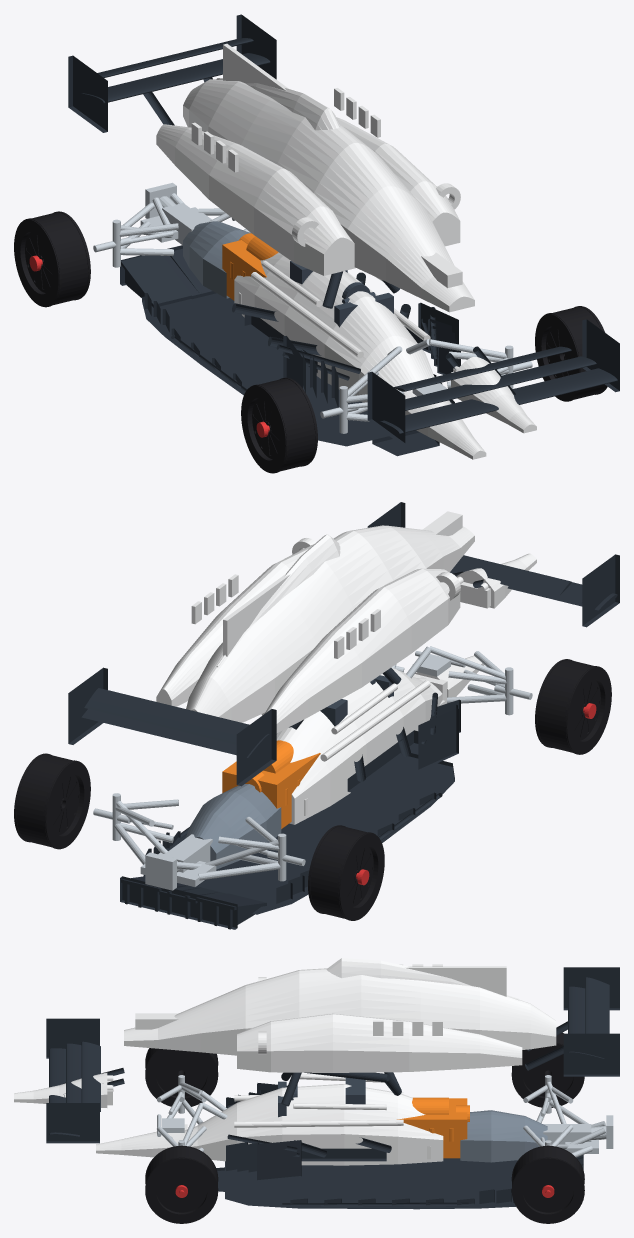
File: W11_2020_PRINTABLE_EXPLODED.glb
The picture shows the model from 3 angles, top to bottom: view 1: azimuth 30°, elevation 25°; view 2: azimuth 150°, elevation 25°; view 3: azimuth 270°, elevation 25°; orthographic projection. The views are drawn at different scales.
Parts seen in each view (by area): view 1: Reinforced W11 upper body, Rolling wheel (×3), 2020 flat stepped floor and diffuser, Carbon honeycomb survival cell, Static front wing, Static rear wing, Four-stack bargeboards, Rear swept pullrod suspension, Front pushrod suspension and DAS study, Rear transaxle and gearbox, Removable W11 nose, V6 turbo hybrid power unit study (+4 smaller); view 2: Reinforced W11 upper body, Rolling wheel (×3), 2020 flat stepped floor and diffuser, Carbon honeycomb survival cell, Static rear wing, Rear swept pullrod suspension, Static front wing, Rear transaxle and gearbox, Front pushrod suspension and DAS study, V6 turbo hybrid power unit study, Four-stack bargeboards, Rear impact structure (+4 smaller); view 3: Reinforced W11 upper body, Rolling wheel (×4), Carbon honeycomb survival cell, 2020 flat stepped floor and diffuser, Static front wing, Static rear wing, Rear transaxle and gearbox, Four-stack bargeboards, V6 turbo hybrid power unit study, Front pushrod suspension and DAS study, Rear swept pullrod suspension, Side impact structures (+5 smaller).
Part boxes in pixels (x1,y1,x2,y2): Reinforced W11 upper body: (156,43,474,312); Rolling wheel (×3): (14,211,607,473); 2020 flat stepped floor and diffuser: (120,245,454,456); Carbon honeycomb survival cell: (234,252,434,402); Static front wing: (367,319,619,444); Static rear wing: (68,14,276,132); Four-stack bargeboards: (276,302,460,408); Rear swept pullrod suspension: (112,193,251,267); Front pushrod suspension and DAS study: (339,339,513,433); Rear transaxle and gearbox: (183,221,250,298); Removable W11 nose: (451,357,536,433); V6 turbo hybrid power unit study: (222,233,278,300); Reinforced W11 upper body: (156,511,474,733); Rolling wheel (×3): (14,659,611,920); 2020 flat stepped floor and diffuser: (120,747,454,929); Carbon honeycomb survival cell: (261,667,445,824); Static rear wing: (68,667,276,786); Rear swept pullrod suspension: (112,793,286,886); Static front wing: (367,502,619,627); Rear transaxle and gearbox: (186,784,281,869); Front pushrod suspension and DAS study: (391,646,513,715); V6 turbo hybrid power unit study: (222,740,320,828); Four-stack bargeboards: (418,692,460,770); Rear impact structure: (145,834,212,890); Reinforced W11 upper body: (124,958,556,1072); Rolling wheel (×4): (145,1032,584,1223); Carbon honeycomb survival cell: (184,1073,443,1165); 2020 flat stepped floor and diffuser: (216,1155,583,1209); Static front wing: (46,1018,124,1143); Static rear wing: (525,967,619,1076); Rear transaxle and gearbox: (460,1110,547,1162); Four-stack bargeboards: (226,1083,301,1181); V6 turbo hybrid power unit study: (397,1097,469,1158); Front pushrod suspension and DAS study: (156,1075,227,1151); Rear swept pullrod suspension: (523,1075,605,1157); Side impact structures: (294,1137,391,1161).
Size of the model in its own units: 0.1108 by 0.0889 by 0.2146.
